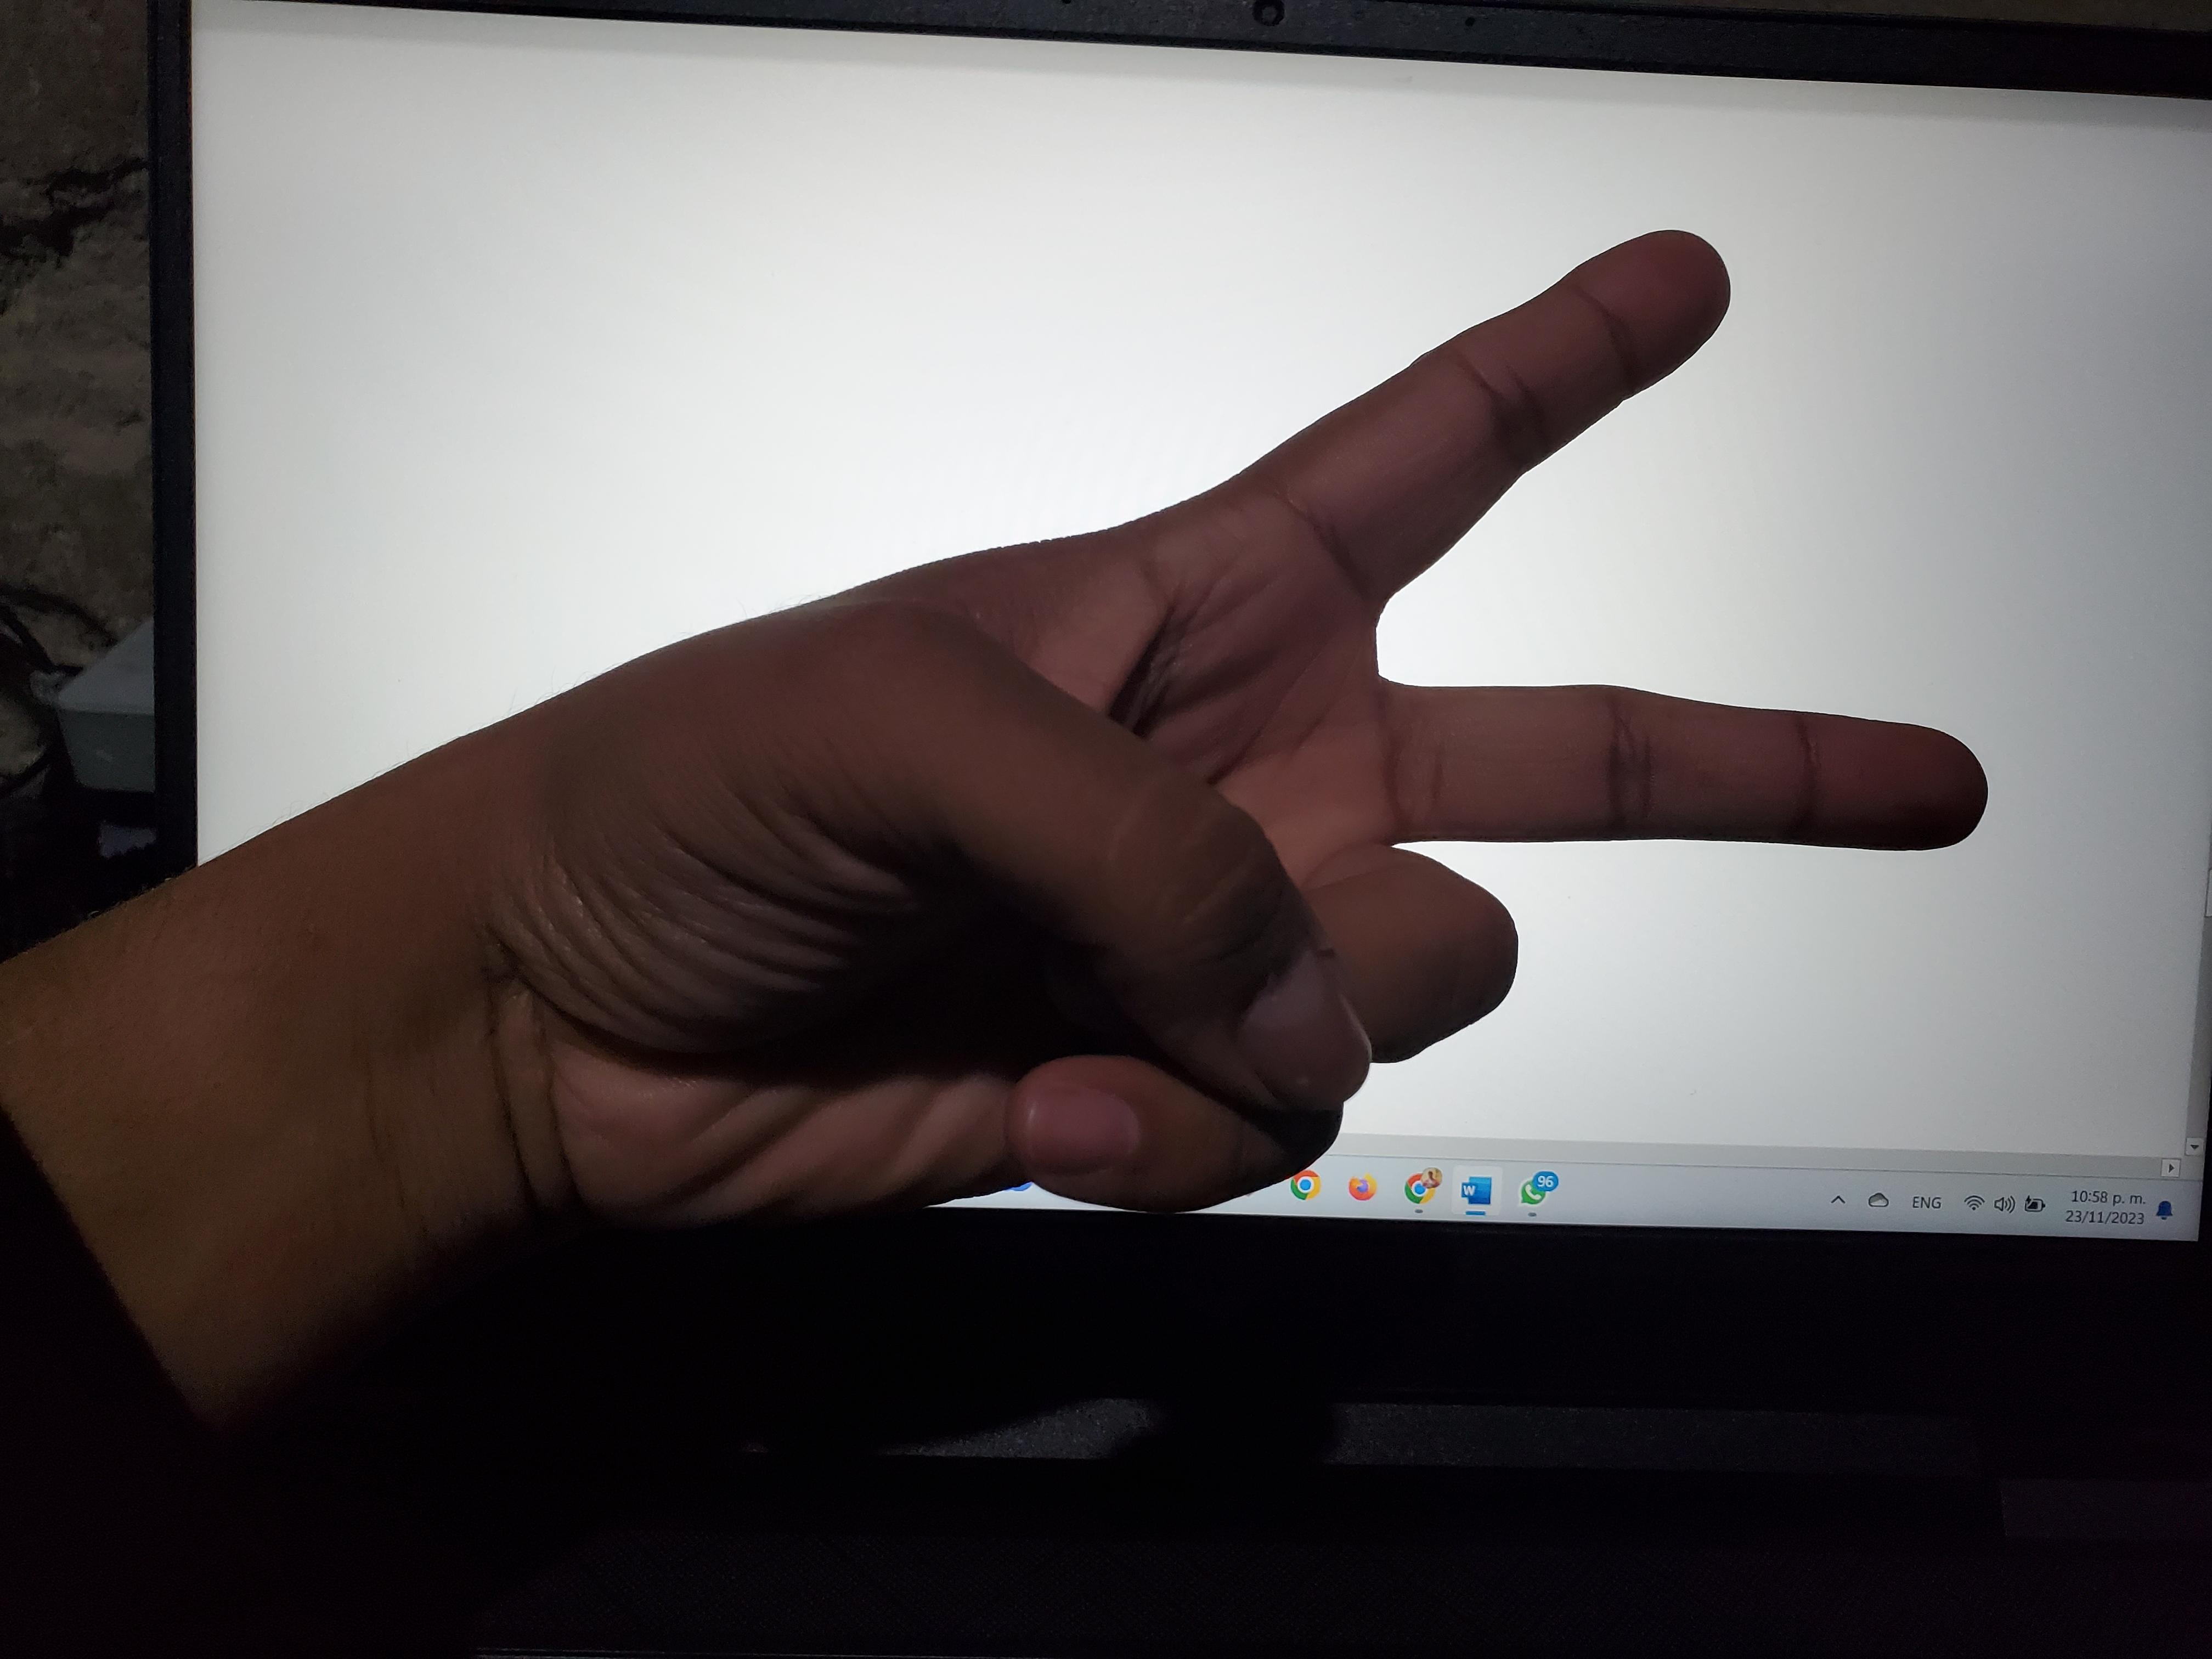Scissor: (132, 0, 2125, 1352)
